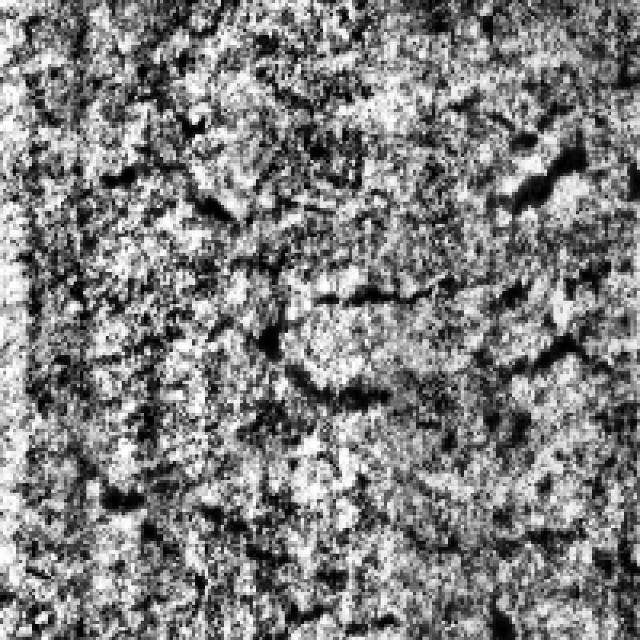Pitted_Surface: (362, 208, 636, 563), (202, 70, 624, 294), (223, 253, 614, 403)
